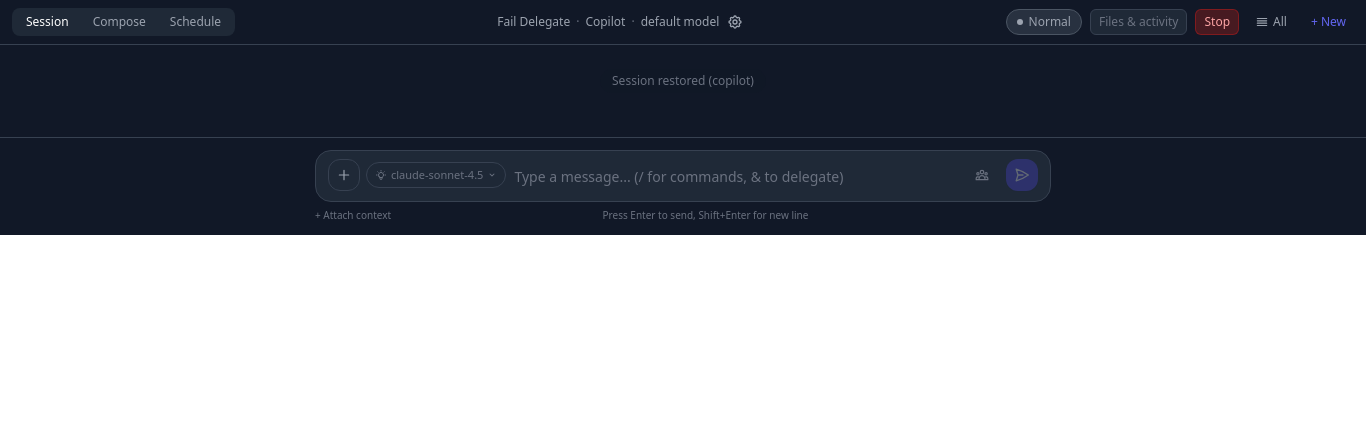
Scenario: Work › shows error message when subagent:spawn fails
This screenshot has width=1366, height=424.
In the text box named "Message input": [736, 178] box [514,162,958,193], type "&Bad task"
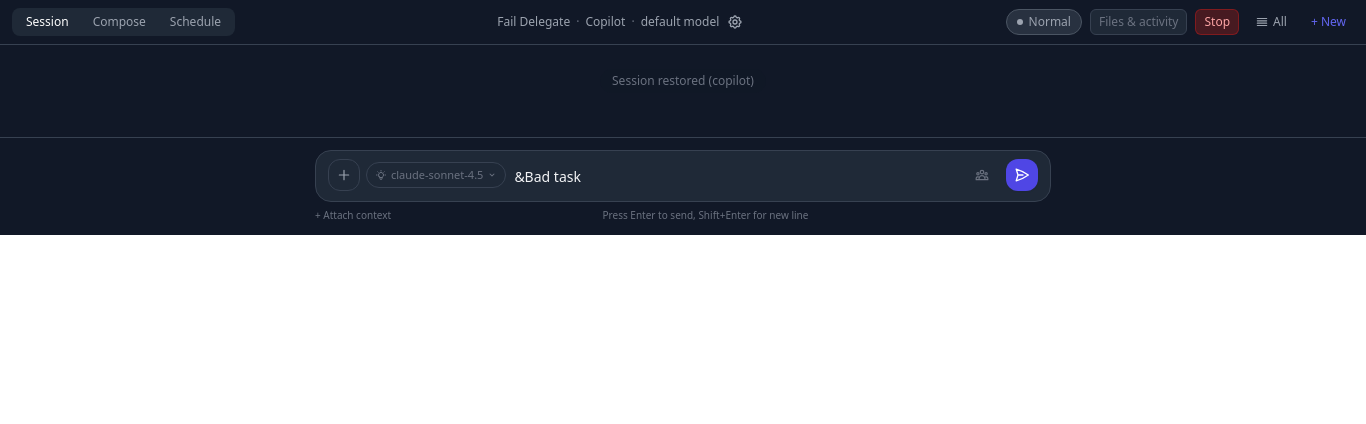
Press Enter in the text box named "Message input", box [514,162,958,193]
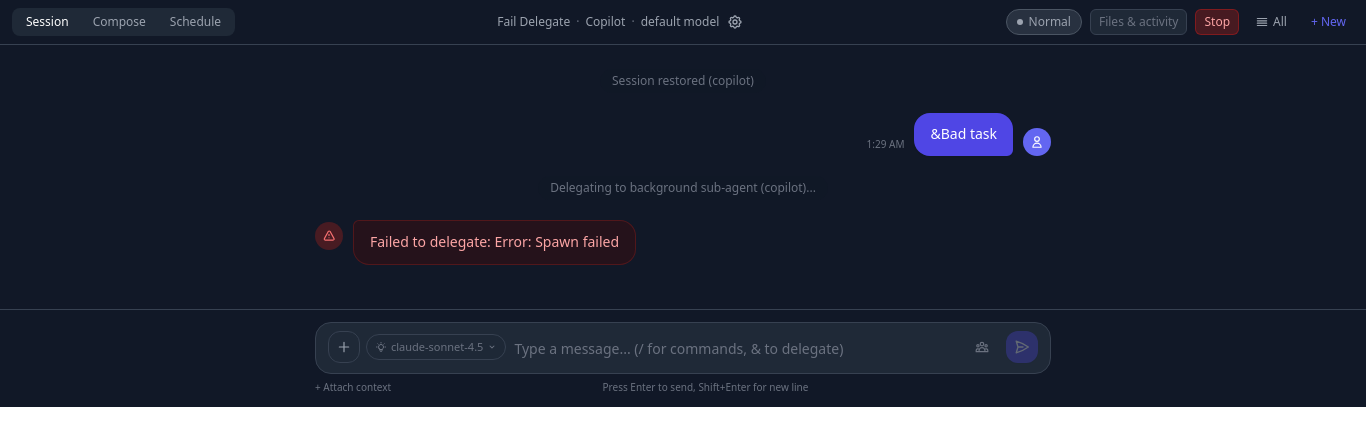
Check: the text "Failed to delegate: Error: Spawn failed" is shown, box [370,231,619,254]
